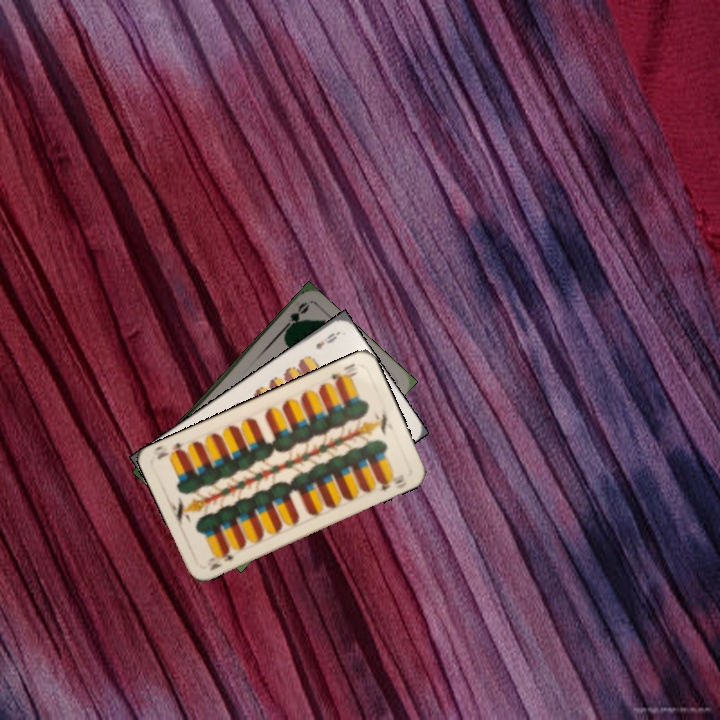E10: (203, 545, 236, 573), (327, 359, 360, 386)
E9: (312, 328, 341, 352)
GO: (279, 299, 311, 335)
